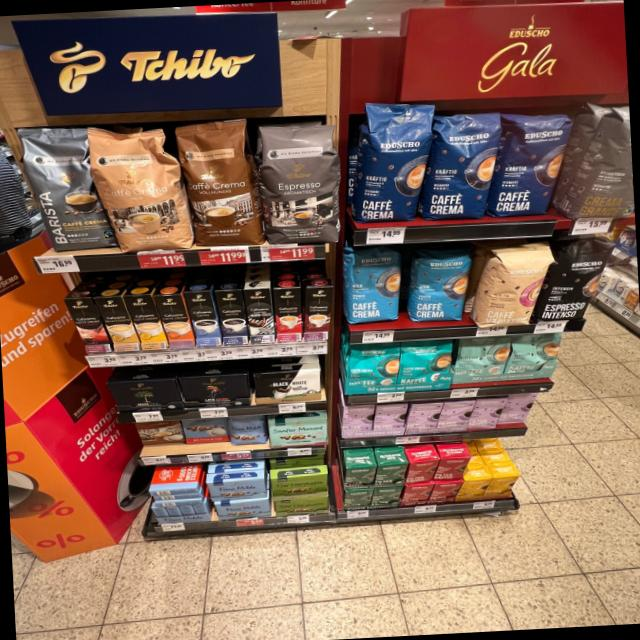BM Gemahlen: (106, 378, 182, 414)
BW Gemahlen: (254, 370, 324, 404)
Barista CC: (15, 120, 116, 256)
CC Mild: (86, 121, 192, 254)
CC Vollmundig: (133, 420, 185, 448)
CC Vollmundig 36 Pads: (174, 120, 263, 250)
Espresso Aromatisch: (255, 120, 345, 247)
FM 36 Pads: (180, 418, 230, 447)
FM Bohne: (228, 414, 268, 447)
FM Gemahlen: (206, 478, 269, 503), (214, 498, 272, 521)
Herzhatfe Mundig: (270, 474, 329, 498), (274, 495, 329, 517)
LG Gemahlen: (177, 372, 253, 410)
SM Gemahlen: (268, 414, 330, 450)
Simo CC Colombia: (64, 297, 114, 355)
Simo CCMild bigpack: (124, 294, 169, 350)
Simo CCVollmundig bigpack: (154, 294, 196, 350)
Simo Decaff: (94, 296, 142, 354)
Simo Es Brazil: (273, 288, 301, 344)
Simo Es Caramel: (306, 287, 333, 342)
Simo Es Elegant: (245, 289, 276, 345)
Simo Es Kraft: (216, 290, 249, 346)
Simo Es Vanilla: (184, 291, 222, 348)
